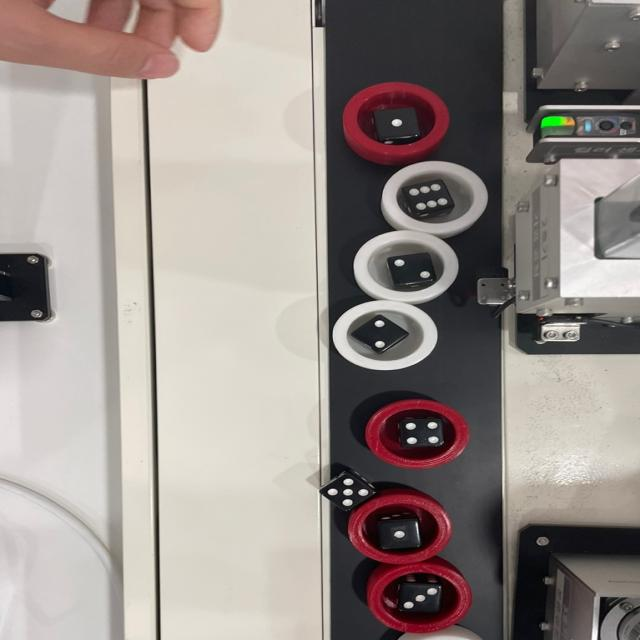DICE1: (377, 109, 418, 136), (380, 521, 421, 547)
DICE2: (390, 253, 434, 284), (364, 319, 404, 349)
DICE3: (401, 585, 441, 612)
DICE4: (401, 420, 442, 448)
DICE5: (323, 476, 370, 508)
DICE6: (408, 182, 450, 211)
RedChip: (344, 84, 444, 156), (350, 494, 449, 562), (366, 567, 471, 631), (368, 399, 467, 466)
WhiteChip: (382, 160, 488, 233), (332, 301, 438, 369), (354, 232, 454, 300)
